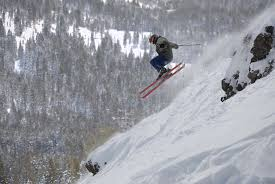skier: (130, 29, 209, 104)
